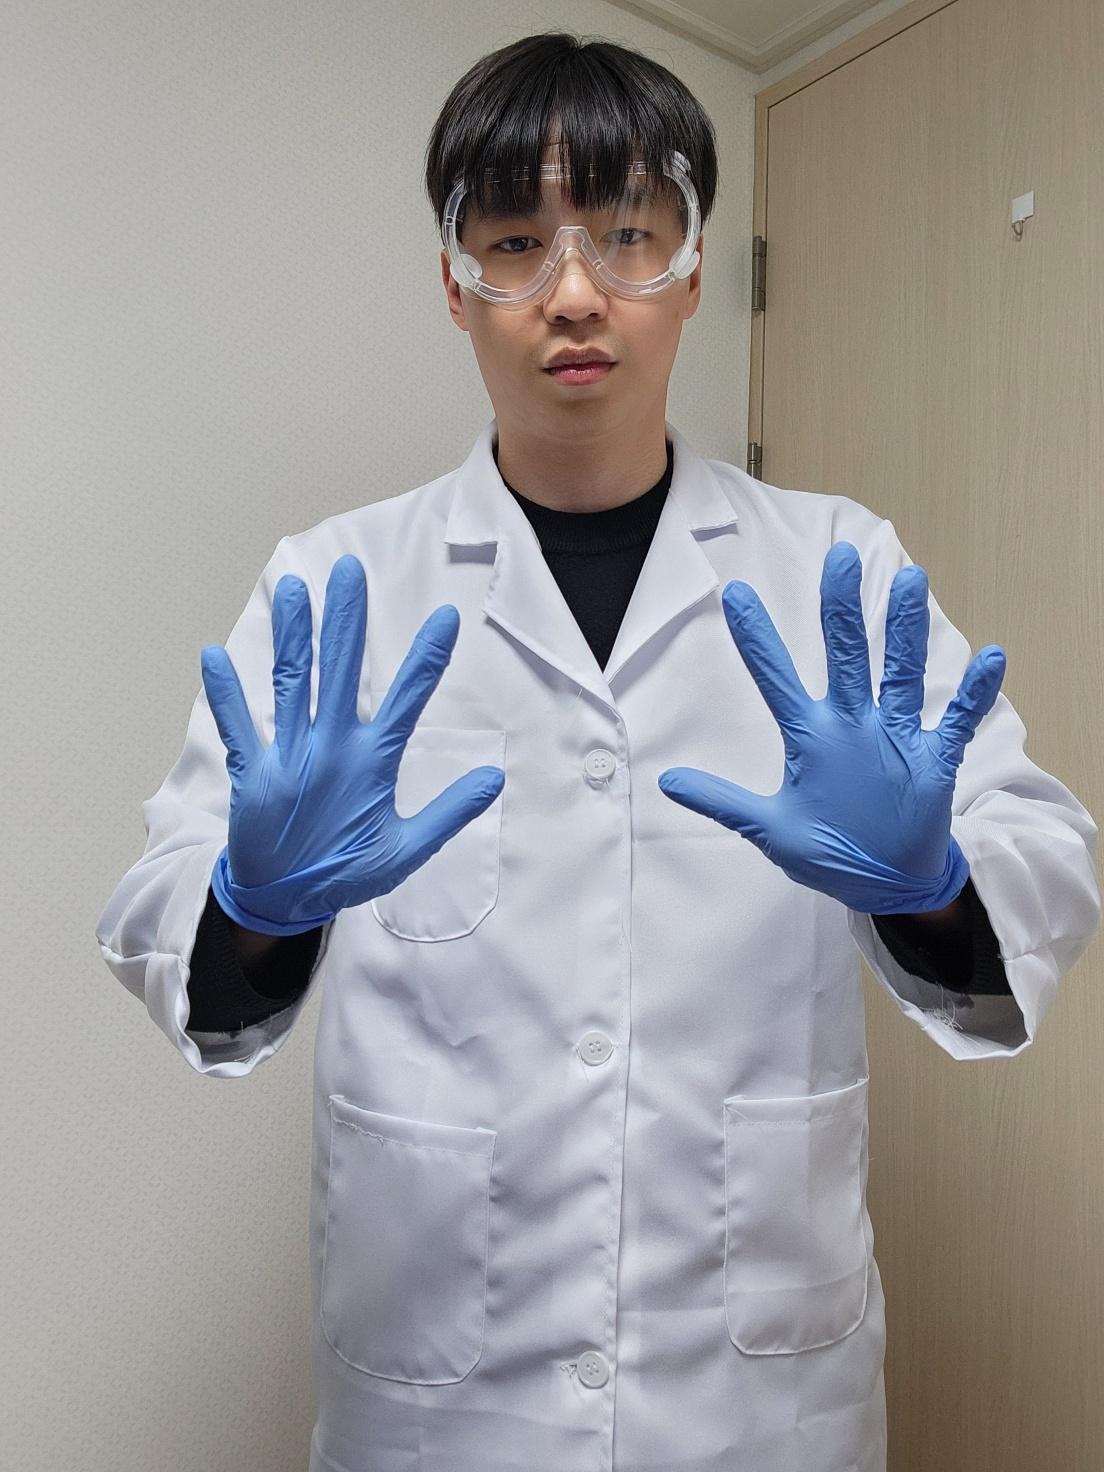lab_coat: (278, 417, 914, 1471)
